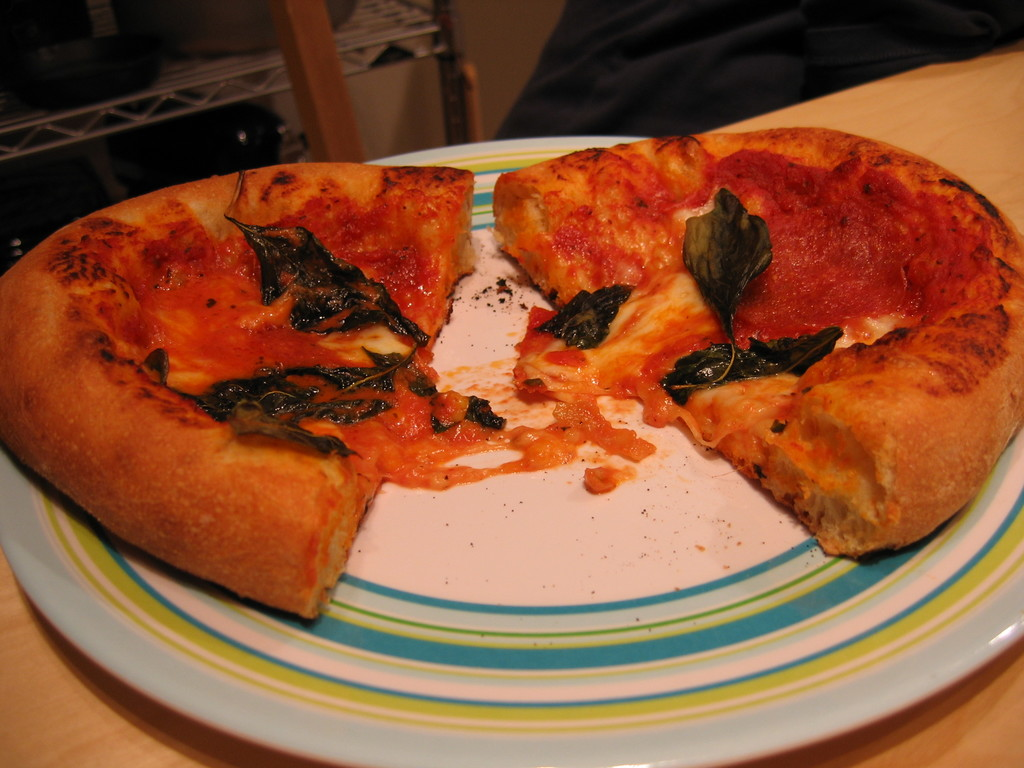Pizza: (483, 119, 1002, 575), (3, 161, 492, 627)
